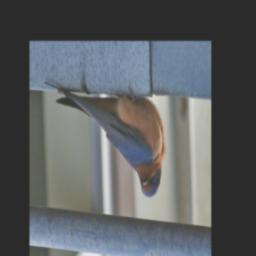Swallow: (44, 80, 166, 198)
